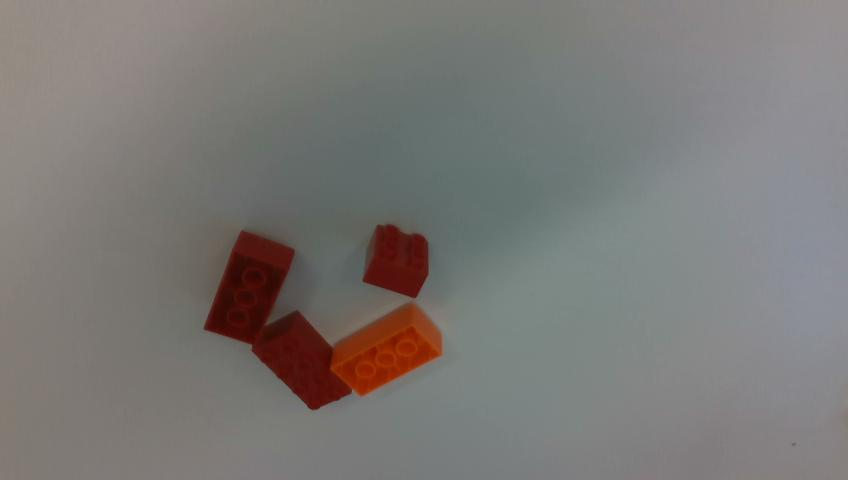2x2_red: (365, 224, 428, 297)
4x2_orange: (331, 303, 441, 395)
4x2_red: (206, 231, 293, 344), (255, 312, 351, 409)
